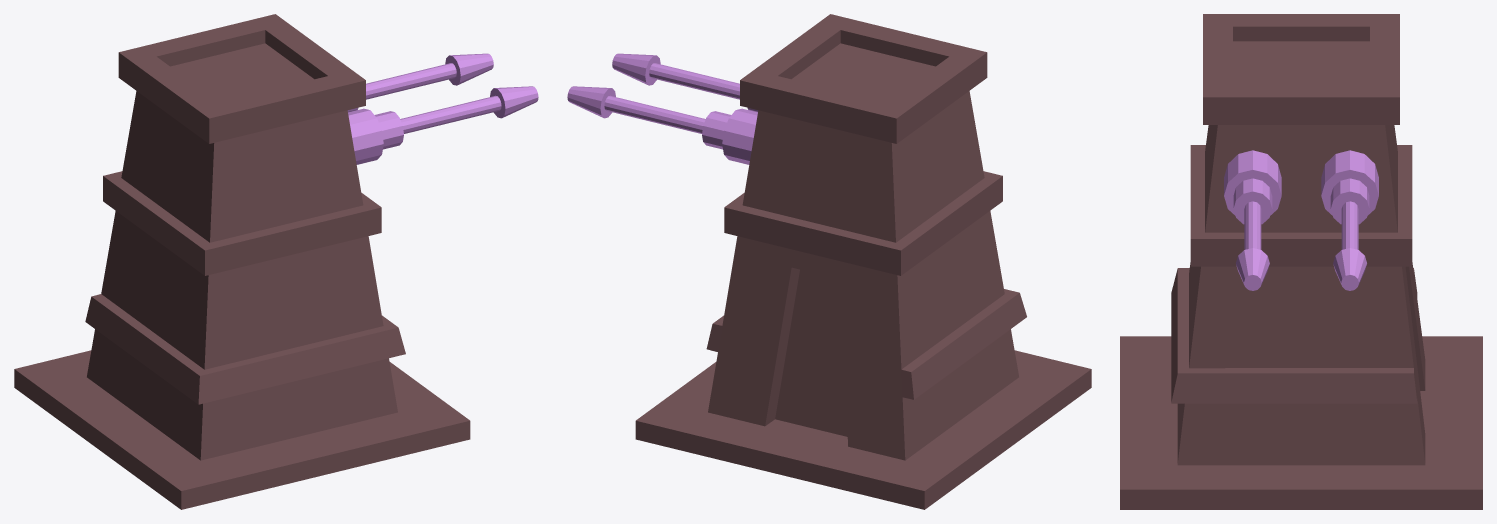
The model's file is Turret.fbx.
3 renders of one model, left to right at view 1: azimuth 30°, elevation 25°; view 2: azimuth 150°, elevation 25°; view 3: azimuth 270°, elevation 25°, orthographic. The views are drawn at different scales.
Parts seen in each view (by area): view 1: TurretMesh, Turret.head; view 2: TurretMesh, Turret.head; view 3: TurretMesh, Turret.head.
Part boxes in pixels (x1,y1,x2,y2): TurretMesh: (14, 171, 470, 509); Turret.head: (118, 14, 538, 242); TurretMesh: (635, 171, 1091, 509); Turret.head: (567, 14, 987, 242); TurretMesh: (1120, 145, 1482, 509); Turret.head: (1203, 14, 1399, 290).
Bounding box in the file's own units: 5.29 × 7.58 × 6.07.
